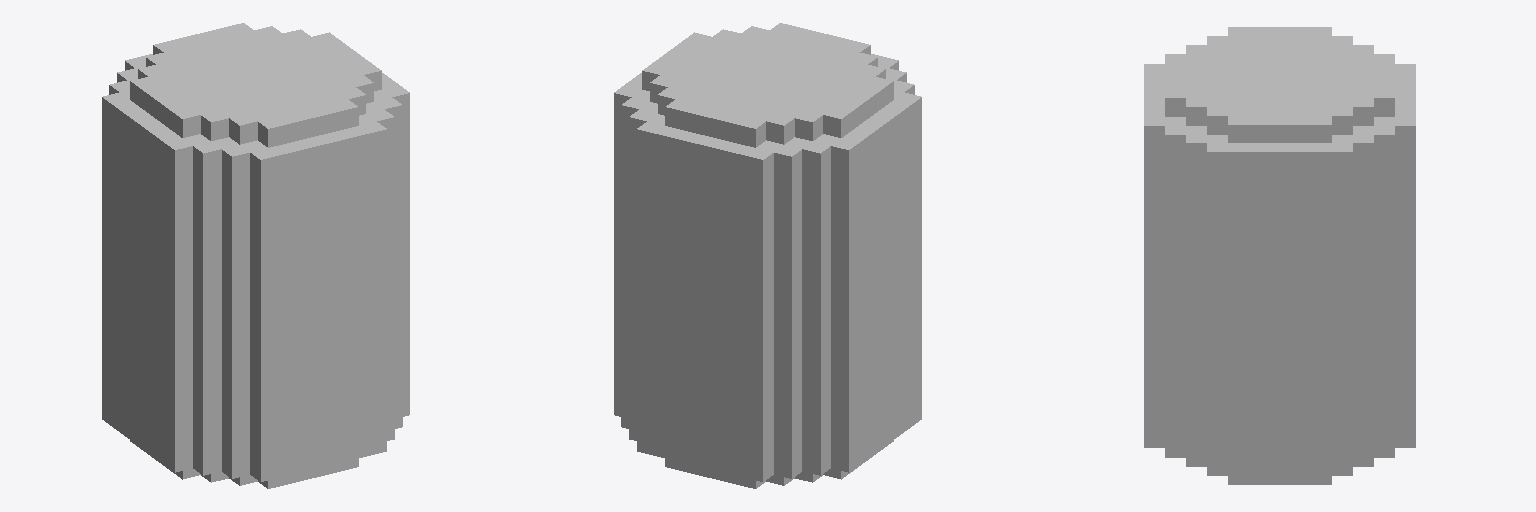
The model's file is AppleBarrel.obj.
The picture shows the model from 3 angles: view 1: azimuth 30°, elevation 25°; view 2: azimuth 150°, elevation 25°; view 3: azimuth 270°, elevation 25°; orthographic projection.
Visible parts, largest first — view 1: object 1; view 2: object 1; view 3: object 1.
Part boxes in pixels (left/top/right/bottom): object 1: left=102, top=23, right=409, bottom=488; object 1: left=614, top=23, right=921, bottom=488; object 1: left=1144, top=27, right=1415, bottom=484.
Bounding box in the file's own units: 1.3 × 1.9 × 1.3.